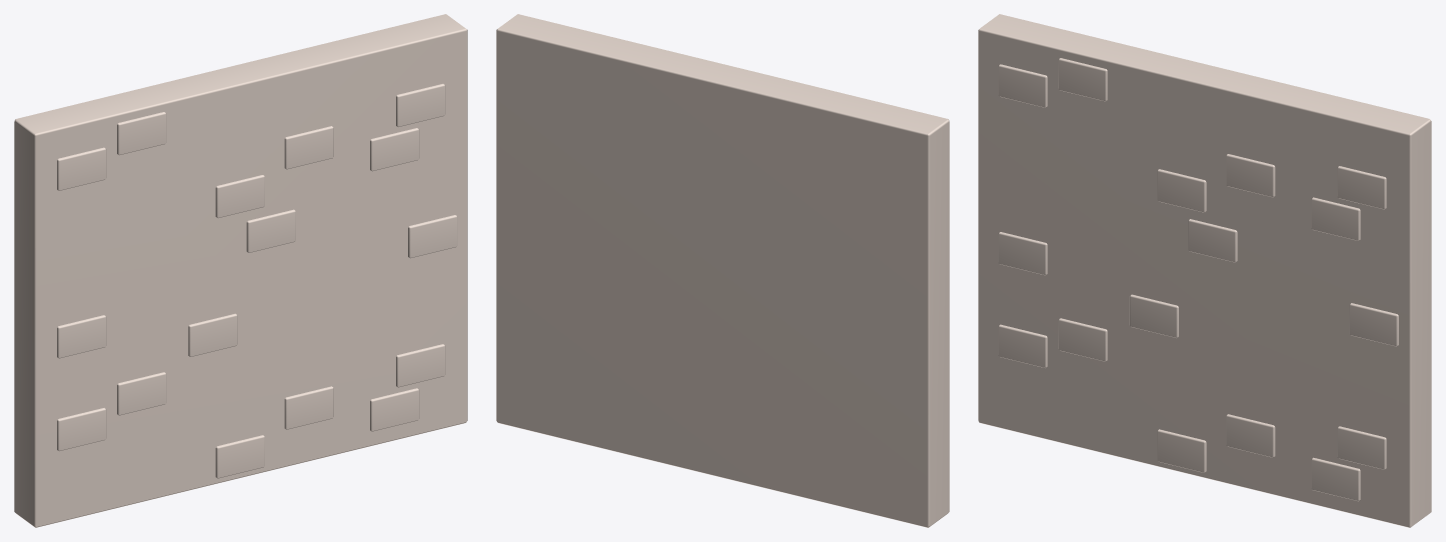
File: Wall_34.glb
3 renders of one model, left to right at view 1: azimuth 30°, elevation 25°; view 2: azimuth 150°, elevation 25°; view 3: azimuth 330°, elevation 25°, orthographic.
Parts seen in each view (by area): view 1: Wall_34; view 2: Wall_34; view 3: Wall_34.
Boxes of the visible parts, x1,y1,x2,y2 form: Wall_34: [14, 14, 467, 527]; Wall_34: [496, 14, 949, 527]; Wall_34: [978, 14, 1431, 527].
Bounding box in the file's own units: 4.6 × 4 × 0.4287.
1 material, 1 textured.
